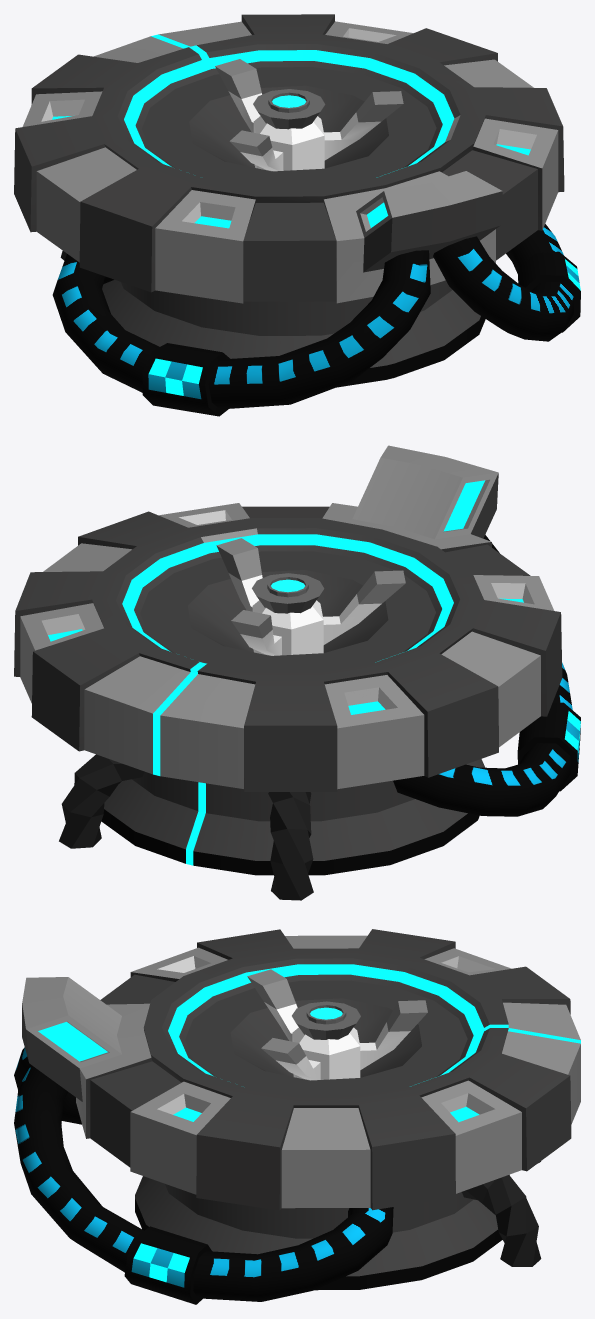
Rendered from Galograminator.fbx.
3 views of the same model, one above another, from view 1: azimuth 30°, elevation 25°; view 2: azimuth 150°, elevation 25°; view 3: azimuth 270°, elevation 25° (orthographic). The views are drawn at different scales.
Parts seen in each view (by area): view 1: Base_glominator, Ventgalo; view 2: Base_glominator, Ventgalo; view 3: Base_glominator, Ventgalo.
Part boxes in pixels (x1,y1,x2,y2): Base_glominator: [14, 14, 580, 416]; Ventgalo: [215, 59, 403, 171]; Base_glominator: [14, 445, 580, 900]; Ventgalo: [216, 538, 405, 655]; Base_glominator: [14, 929, 580, 1304]; Ventgalo: [247, 969, 427, 1080].
Size of the model in its own units: 7.53 by 3.44 by 8.23.
